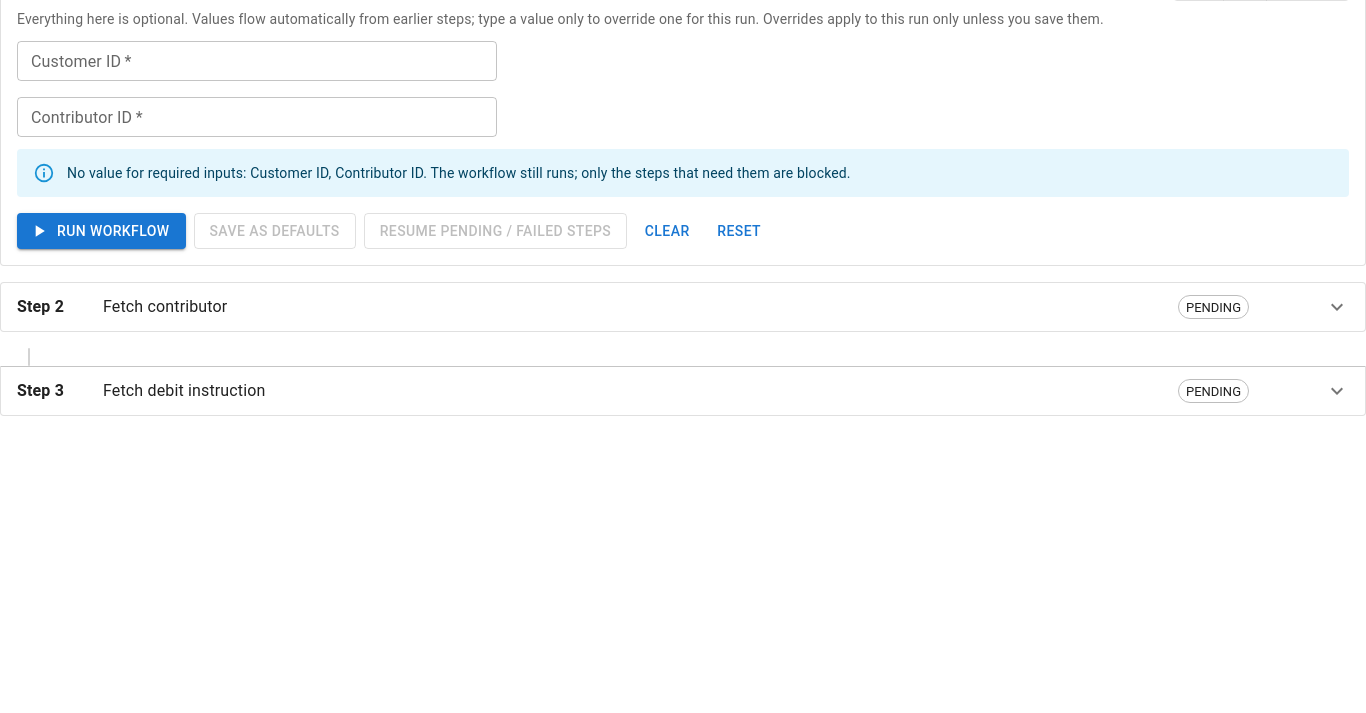
Test: WorkflowRunner › shows missing records and blocked steps clearly
The image size is (1366, 713).
Type "C1" into the field with test id "field-customerId".
click(257, 61); type("C1")  # box 17,41 -> 497,81
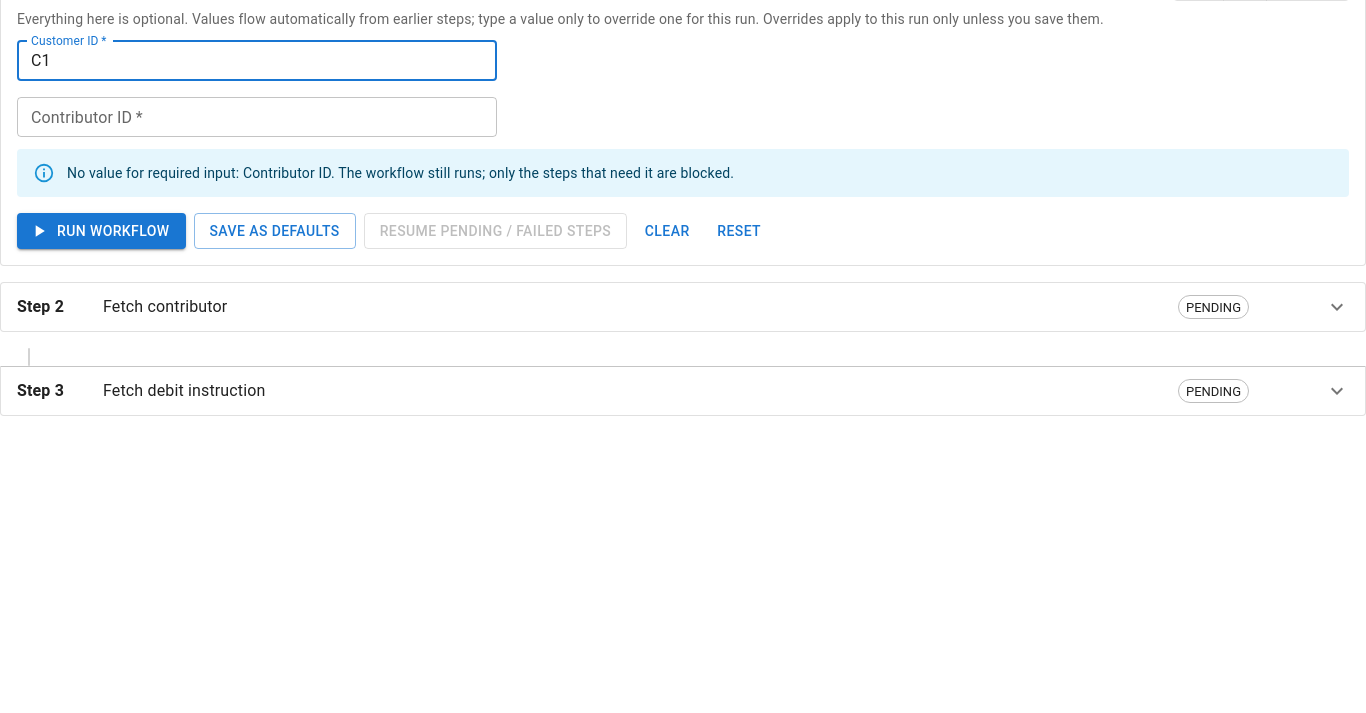
Type "X" into the field with test id "field-contributorId".
click(257, 117); type("X")  # box 17,97 -> 497,137
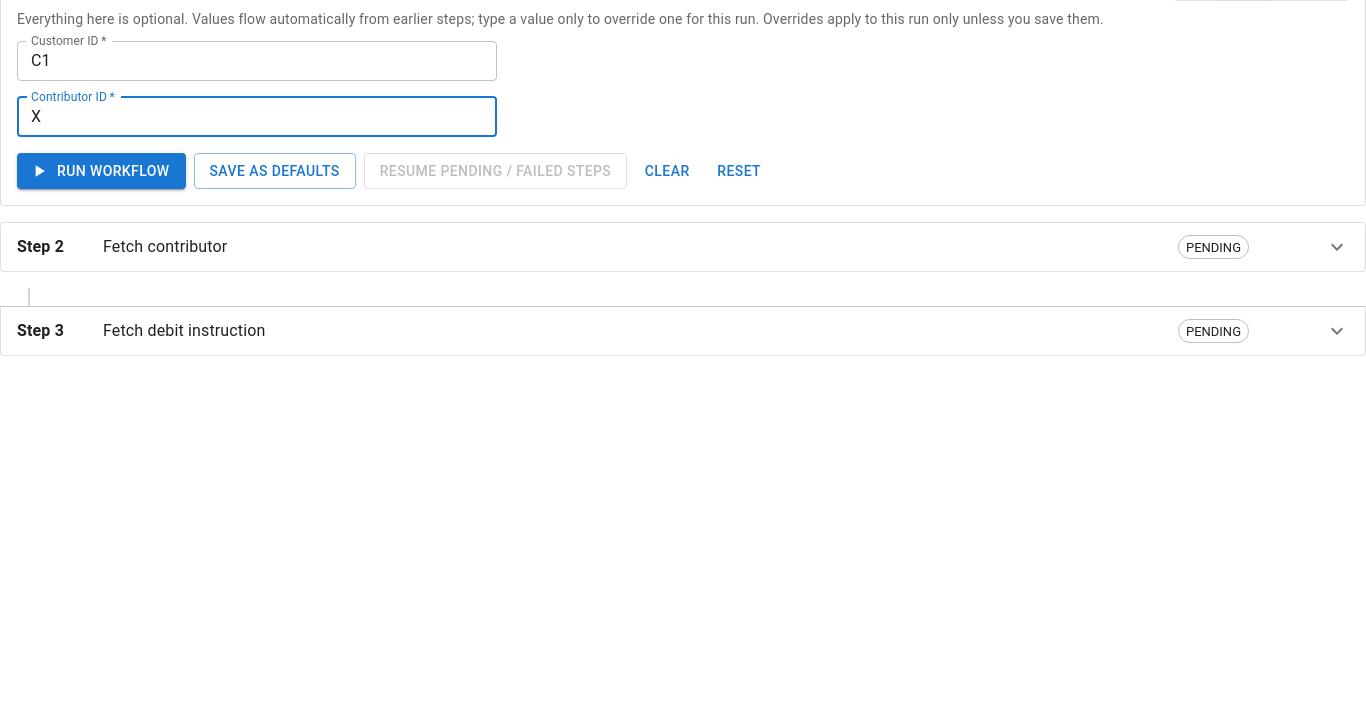
Click the button "Run workflow".
click(101, 171)  # box 17,153 -> 186,189
(page scrolled)
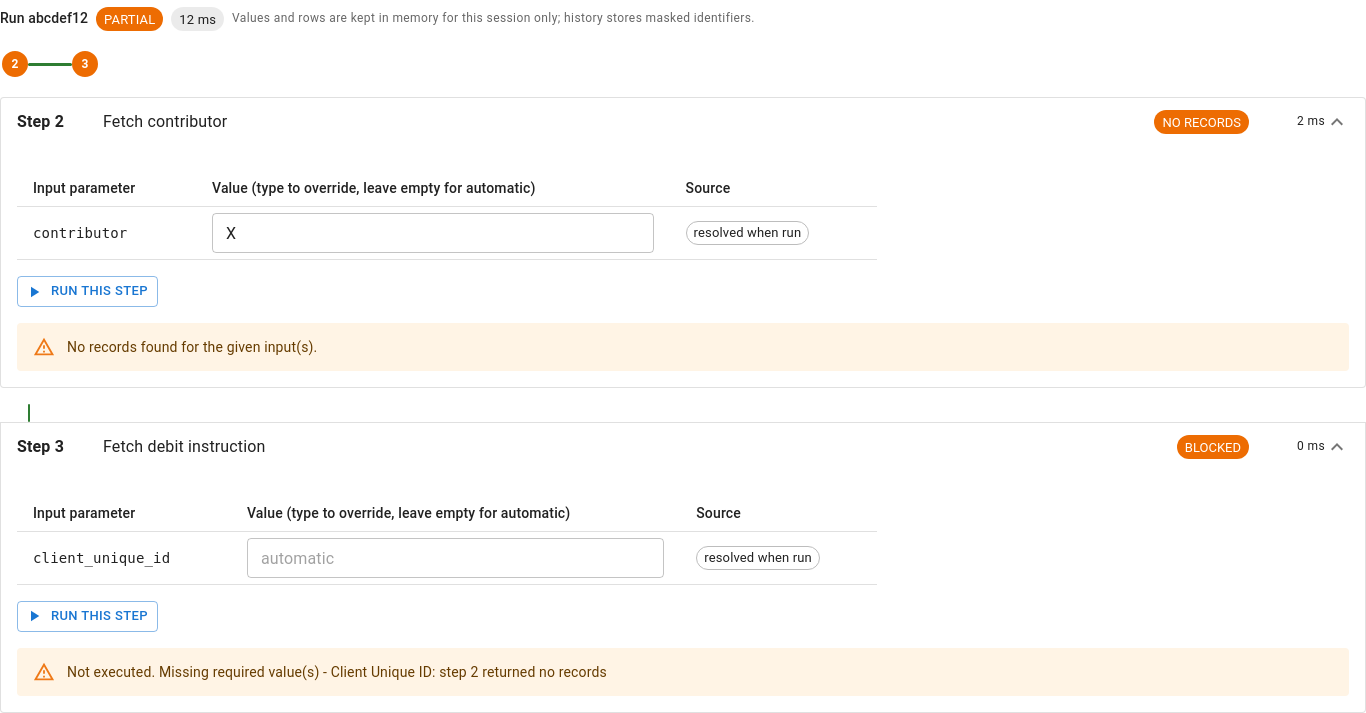
Result: the text "No records found for the given input(s)." is shown at 67,339 -> 317,355
Result: the text "step 2 returned no records" is shown at 159,664 -> 607,680
